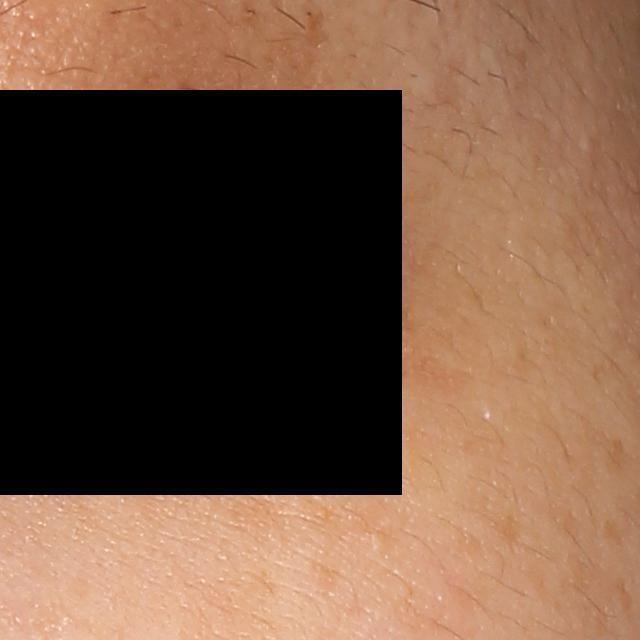melasma: (213, 486, 290, 546), (581, 414, 625, 477), (470, 504, 530, 549), (534, 497, 586, 545)
